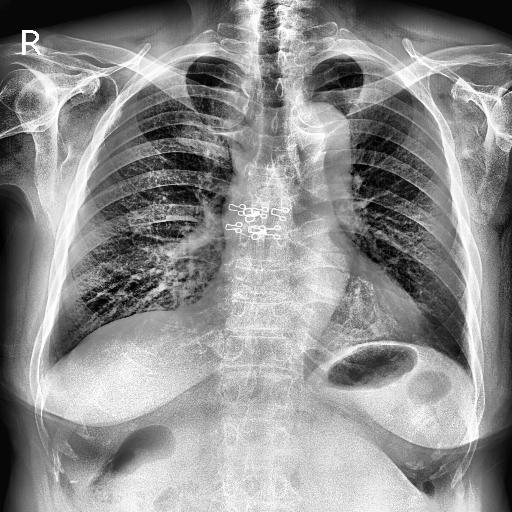0- Aortic enlargement: (290, 102, 352, 178), (294, 101, 354, 176), (282, 102, 352, 160)
11- Pleural thickening: (328, 53, 382, 60)
3- Cardiomegaly: (198, 282, 428, 350)
